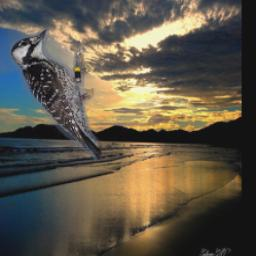Woodpecker: (9, 28, 102, 160)
